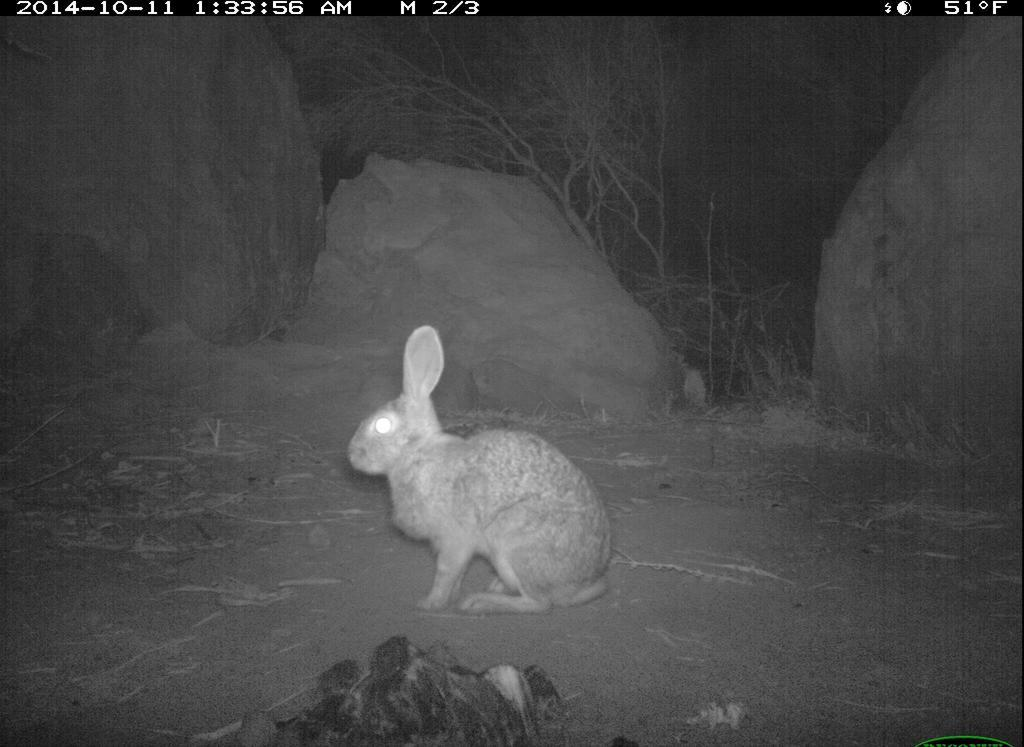rabbit: (345, 323, 621, 623)
